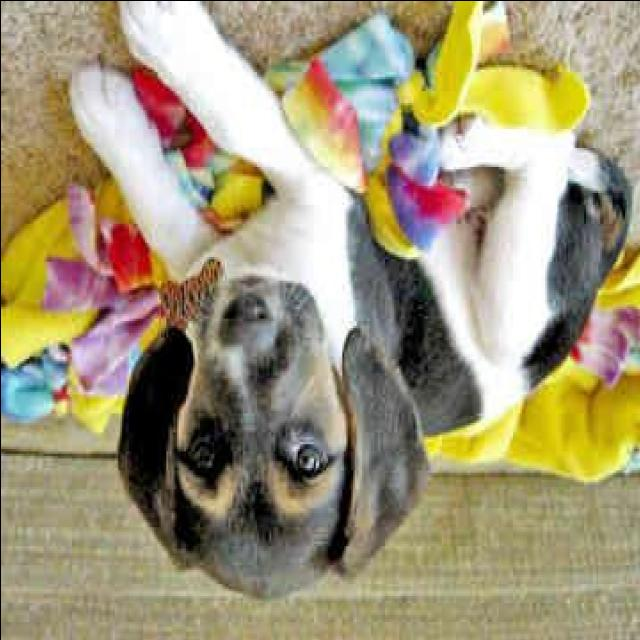beagle: (64, 2, 638, 612)
